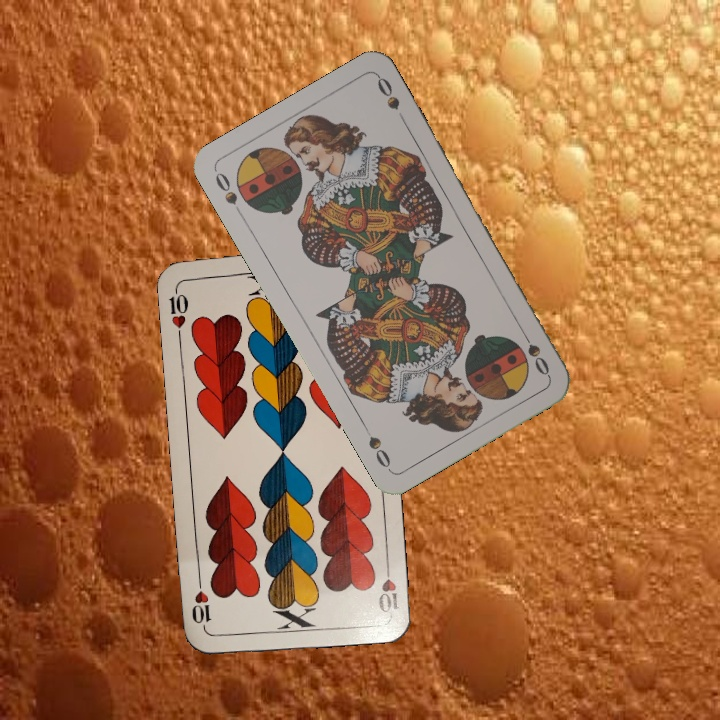H10: (374, 557, 402, 616), (165, 282, 191, 341)
SO: (516, 325, 553, 379), (211, 168, 246, 221)
